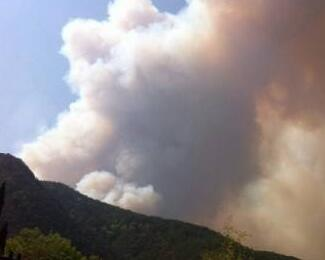yanwu: (15, 0, 324, 206)
